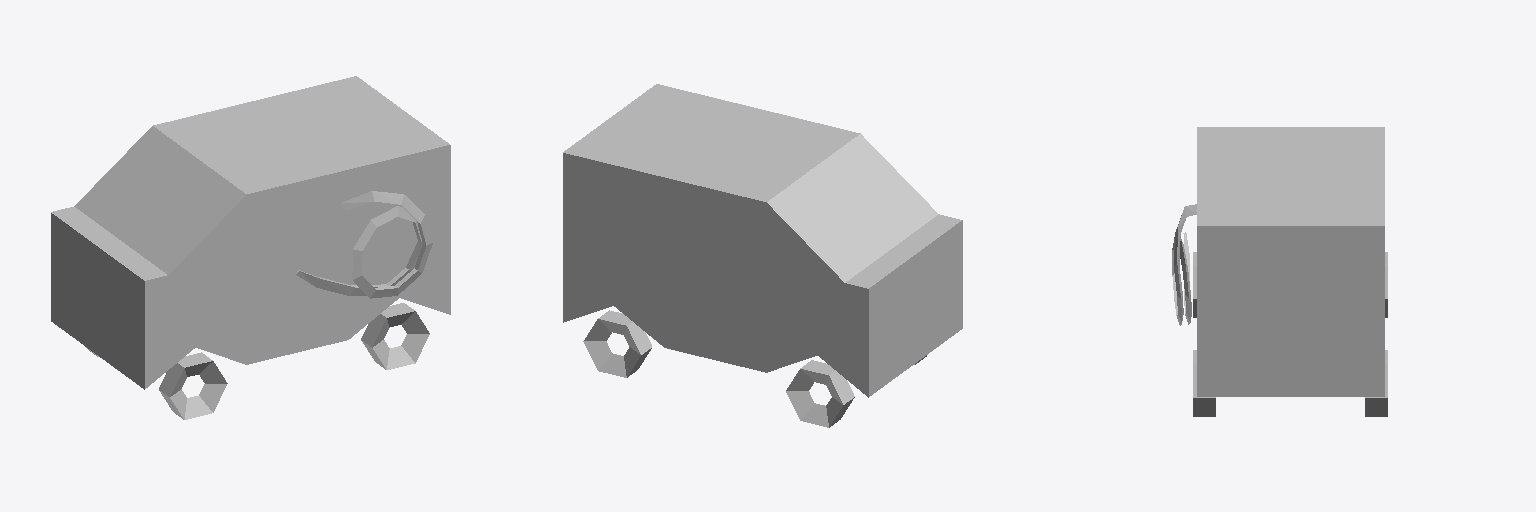
The model's file is fire.obj.
3 views of the same model, side by side, from view 1: azimuth 30°, elevation 25°; view 2: azimuth 150°, elevation 25°; view 3: azimuth 270°, elevation 25° (orthographic).
Parts seen in each view (by area): view 1: pCube1, pHelix1, pTorus3, pTorus1; view 2: pCube1, pTorus4, pTorus2; view 3: pCube1, pHelix1, pTorus1, pTorus2.
Boxes of the visible parts, <box> form: pCube1: <box>51,76,450,389</box>; pHelix1: <box>296,191,432,298</box>; pTorus3: <box>159,352,227,419</box>; pTorus1: <box>361,303,429,369</box>; pCube1: <box>563,84,962,397</box>; pTorus4: <box>786,360,854,427</box>; pTorus2: <box>583,310,651,377</box>; pCube1: <box>1197,127,1384,396</box>; pHelix1: <box>1172,204,1196,325</box>; pTorus1: <box>1193,350,1215,416</box>; pTorus2: <box>1365,350,1387,416</box>.
Bounding box in the file's own units: 7.33 × 4.78 × 4.48.